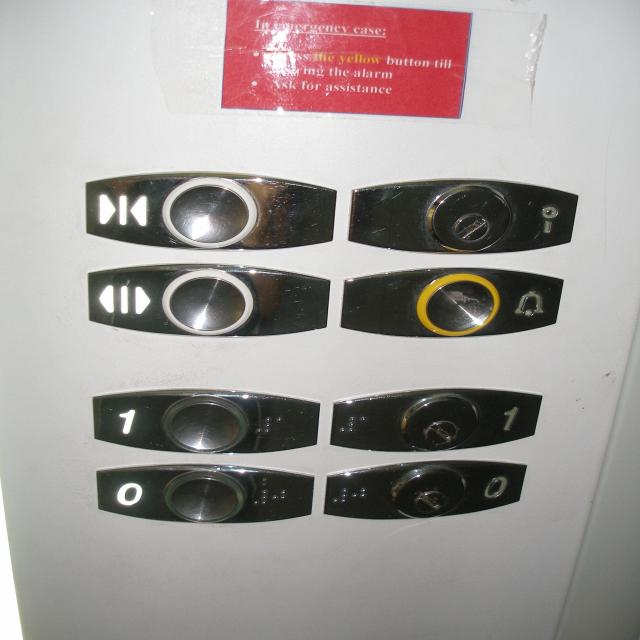0: (93, 459, 321, 525), (321, 457, 531, 523)
1: (88, 384, 326, 456), (328, 383, 546, 457)
alarm: (338, 261, 572, 341)
close: (81, 168, 339, 252), (79, 259, 339, 340)
key: (346, 174, 584, 258)
